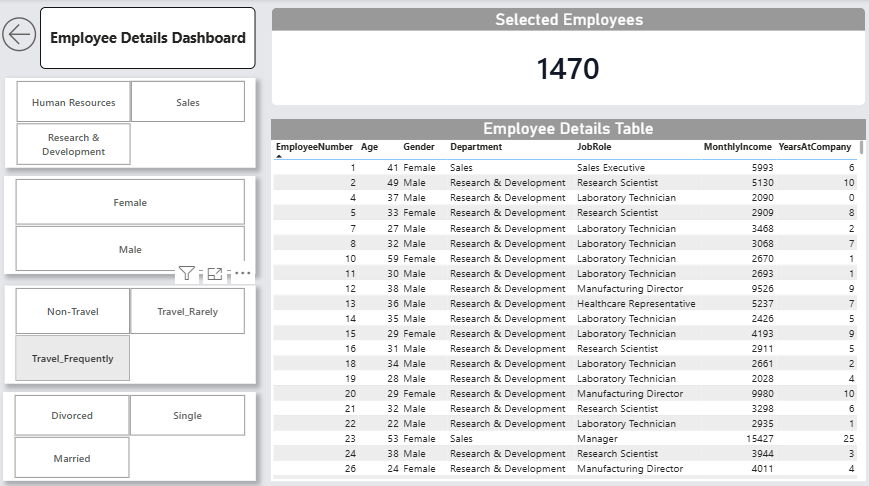

What the dashboard file says about the page in this screenshot:
{"tool":"powerbi","page":{"name":"Employee Details Dashboard","canvas":[1920,1080],"ordinal":2},"visuals":[{"type":"textbox","box":[92.8,18.1,473.2,135.8],"z":0},{"type":"slicer","fields":{"Values":["HR-Employee-Attrition.Department"]},"box":[15.8,174.3,550.2,197],"z":1000},{"type":"slicer","fields":{"Values":["HR-Employee-Attrition.Gender"]},"box":[13.6,389.4,552.5,215.1],"z":2000},{"type":"slicer","fields":{"Values":["HR-Employee-Attrition.BusinessTravel"]},"box":[13.6,627.2,552.5,217.4],"z":3000},{"type":"slicer","fields":{"Values":["HR-Employee-Attrition.MaritalStatus"]},"box":[11.3,862.6,554.7,194.7],"z":4000},{"type":"tableEx","title":"Employee Details Table","fields":{"Values":["HR-Employee-Attrition.EmployeeNumber","HR-Employee-Attrition.Age","HR-Employee-Attrition.Gender","HR-Employee-Attrition.Department","HR-Employee-Attrition.JobRole","HR-Employee-Attrition.MonthlyIncome","HR-Employee-Attrition.YearsAtCompany"]},"box":[600,262.6,1306.4,794.7],"z":5000},{"type":"cardVisual","title":"Selected Employees","fields":{"Data":["HR-Employee-Attrition.Total Employe"]},"box":[600,18.1,1306.4,217.4],"z":6000},{"type":"actionButton","box":[0,0,92.8,154],"z":6001}]}

Visuals, with their boxes in screenshot pixels (x1, y1, x2, y2), scaled from the page's 1920x1080 canvas onto the 869x486 screenshot:
textbox: 42:8:256:69
slicer - HR-Employee-Attrition.Department: 7:78:256:167
slicer - HR-Employee-Attrition.Gender: 6:175:256:272
slicer - HR-Employee-Attrition.BusinessTravel: 6:282:256:380
slicer - HR-Employee-Attrition.MaritalStatus: 5:388:256:476
"Employee Details Table" tableEx: 272:118:863:476
"Selected Employees" cardVisual: 272:8:863:106
actionButton: 0:0:42:69
